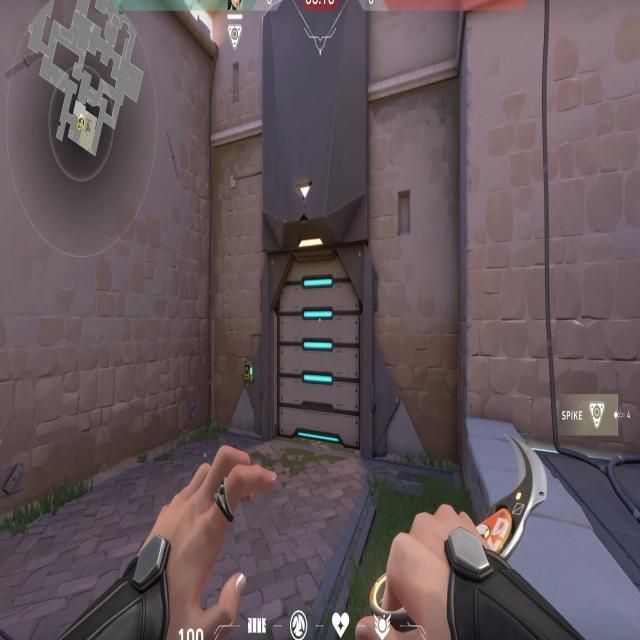A_Door: (258, 235, 372, 454)
